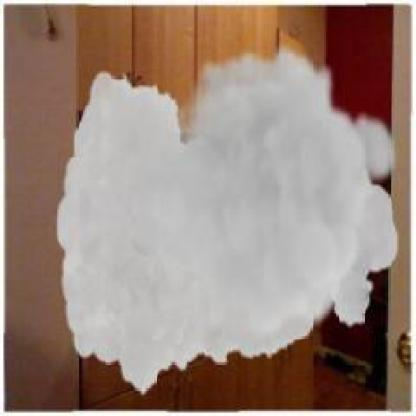Smoke: (55, 42, 398, 398)
